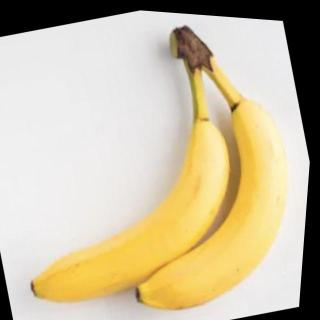banana: (0, 99, 266, 320), (92, 76, 316, 320)
